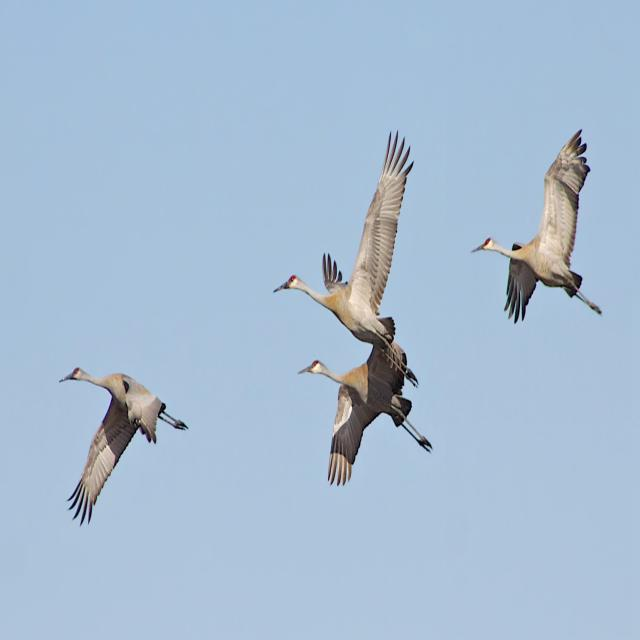bird: (269, 129, 420, 382), (471, 127, 595, 331), (294, 331, 436, 495), (63, 373, 190, 532)
